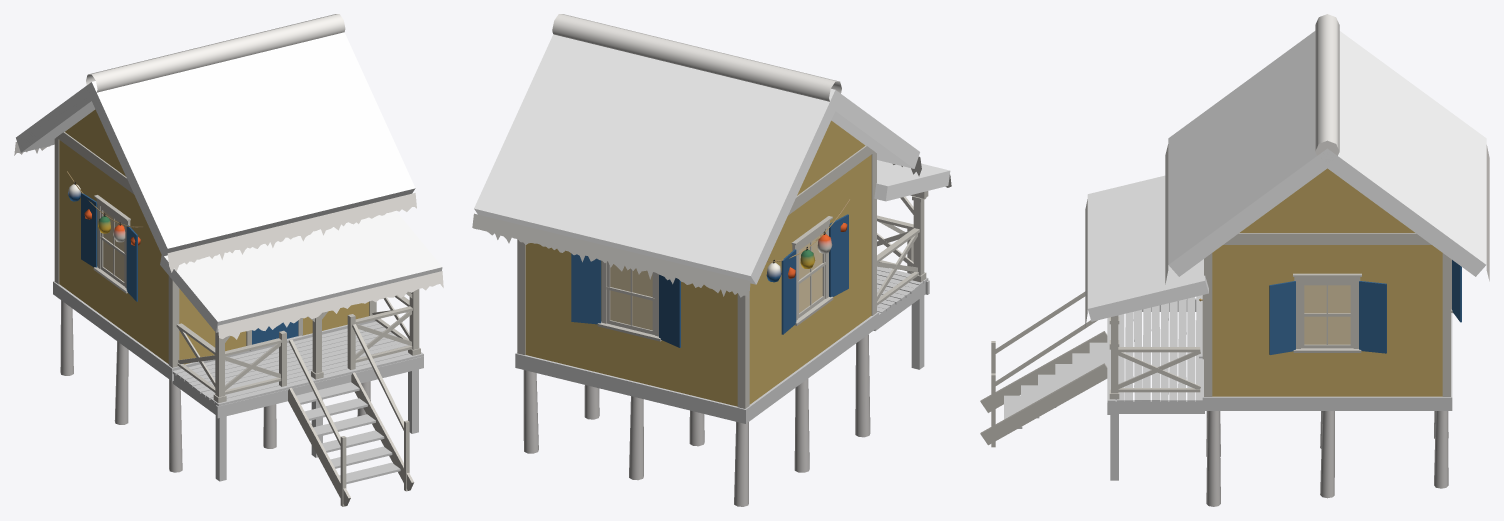
File: beach-hut-s3.glb
3 renders of one model, left to right at view 1: azimuth 30°, elevation 25°; view 2: azimuth 150°, elevation 25°; view 3: azimuth 270°, elevation 25°, orthographic. The views are drawn at different scales.
Visible parts, largest first — view 1: Beach hut S3; view 2: Beach hut S3; view 3: Beach hut S3.
Part boxes in pixels (box(x1,y1,x2,y2)): Beach hut S3: box(14, 14, 443, 506); Beach hut S3: box(472, 14, 951, 506); Beach hut S3: box(980, 14, 1489, 506).
Size of the model in its own units: 4.9 by 6.85 by 8.32.
